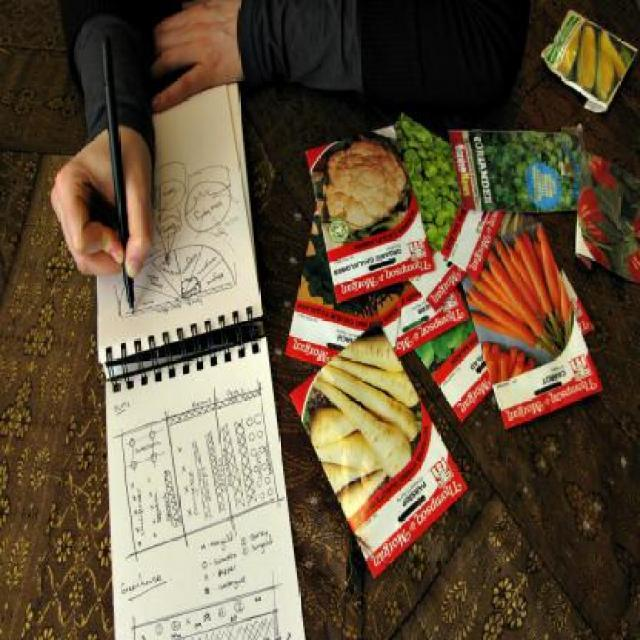Carrot: (482, 231, 578, 369)
